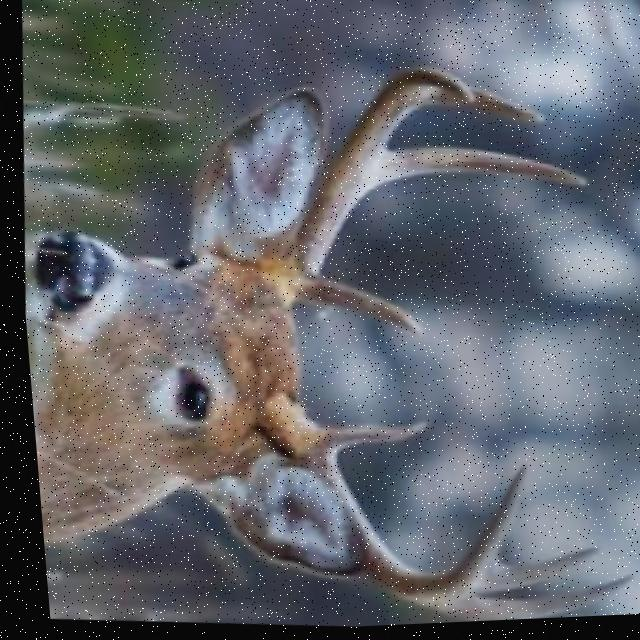L-F: (247, 392, 521, 607)
L-G1: (310, 424, 421, 456)
L-G2: (409, 578, 625, 625)
L-G3: (461, 551, 592, 596)
R-F: (252, 67, 474, 306)
R-G1: (293, 277, 419, 339)
R-G2: (364, 148, 587, 193)
